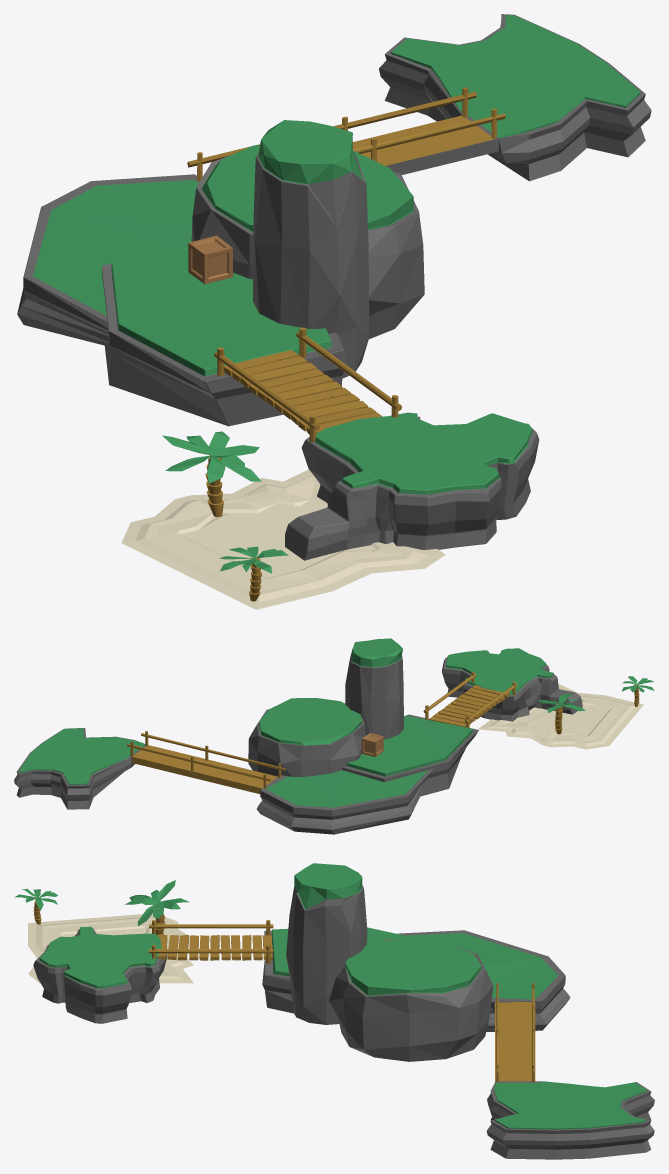
The model's file is niveau1-Extension8.glb.
3 views of the same model, one above another, from view 1: azimuth 30°, elevation 25°; view 2: azimuth 150°, elevation 25°; view 3: azimuth 270°, elevation 25° (orthographic). The views are drawn at different scales.
Visible parts, largest first — view 1: BaseNewIsland, Palmiers 2 Feuillage, Caisse, Palmier1 Feuillage; view 2: BaseNewIsland, Caisse, Palmiers 2 Feuillage; view 3: BaseNewIsland, Palmiers 2 Feuillage.
Boxes of the visible parts, left/top/right/bottom form: BaseNewIsland: left=17, top=14, right=651, bottom=609; Palmiers 2 Feuillage: left=162, top=431, right=261, bottom=483; Caisse: left=188, top=235, right=232, bottom=284; Palmier1 Feuillage: left=219, top=546, right=288, bottom=573; BaseNewIsland: left=14, top=638, right=643, bottom=834; Caisse: left=361, top=733, right=383, bottom=756; Palmiers 2 Feuillage: left=538, top=694, right=585, bottom=713; BaseNewIsland: left=28, top=863, right=654, bottom=1159; Palmiers 2 Feuillage: left=125, top=880, right=189, bottom=926.
Size of the model in its own units: 37.07 by 9.83 by 40.72.
